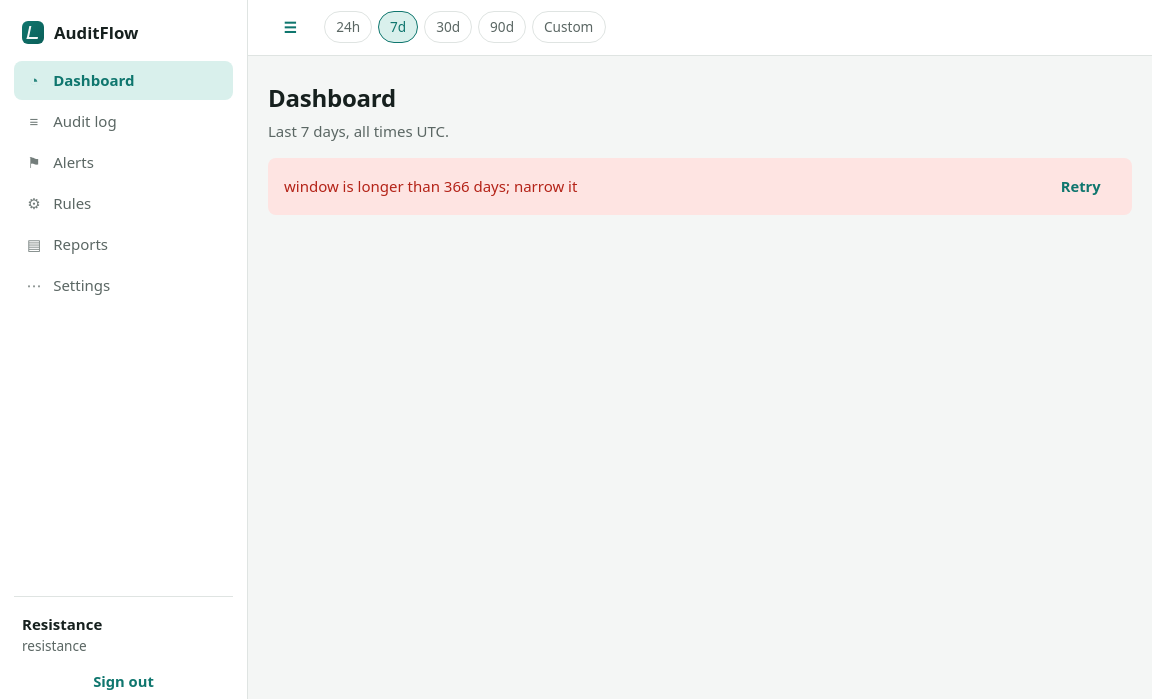
Test: dashboard › a failed load shows the gateway message and retries
Expected: the message shows "window is longer than 366 days", [284,176,577,196]
Click the button "Retry" at point(1081, 187), box [1045,169,1116,204]
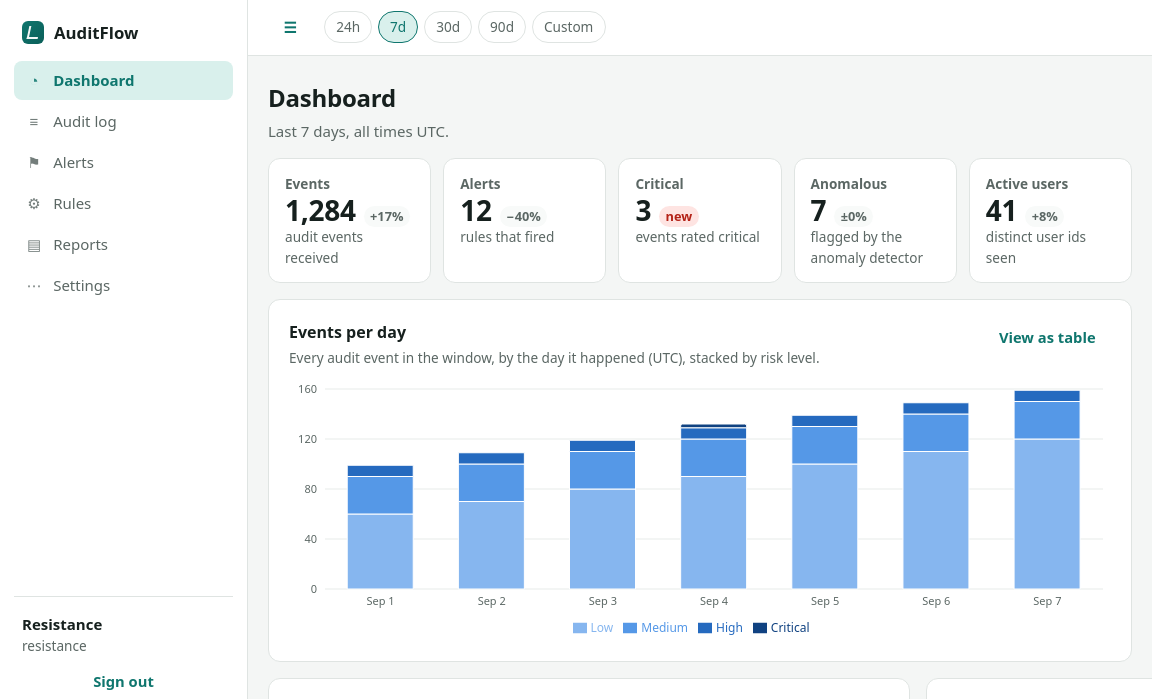
Result: the text "1,284" is shown at [285,194,356,226]
